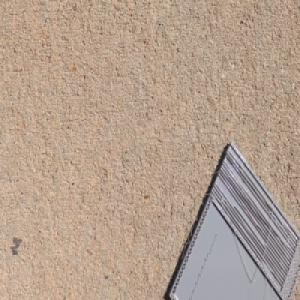PlasticPart: (166, 140, 300, 300)
